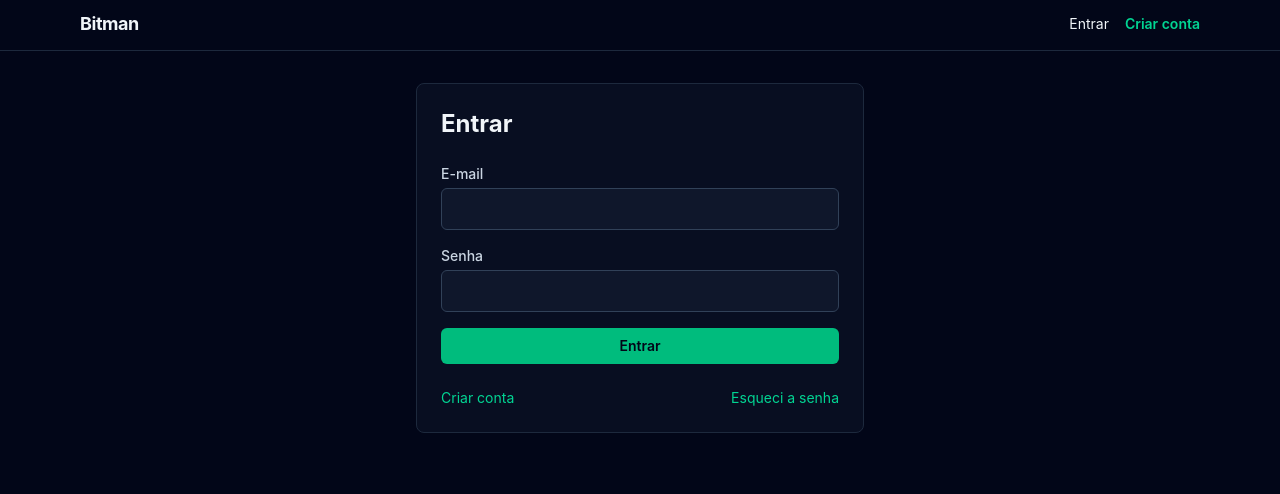
Test: LoginPage › ignora destino externo em ?next= (sem redirecionamento aberto)
The width and height of the screenshot is (1280, 494).
Type "ada@example.com" into the field labelled "E-mail" at (640, 209), box x1=441 y1=188 x2=839 y2=230
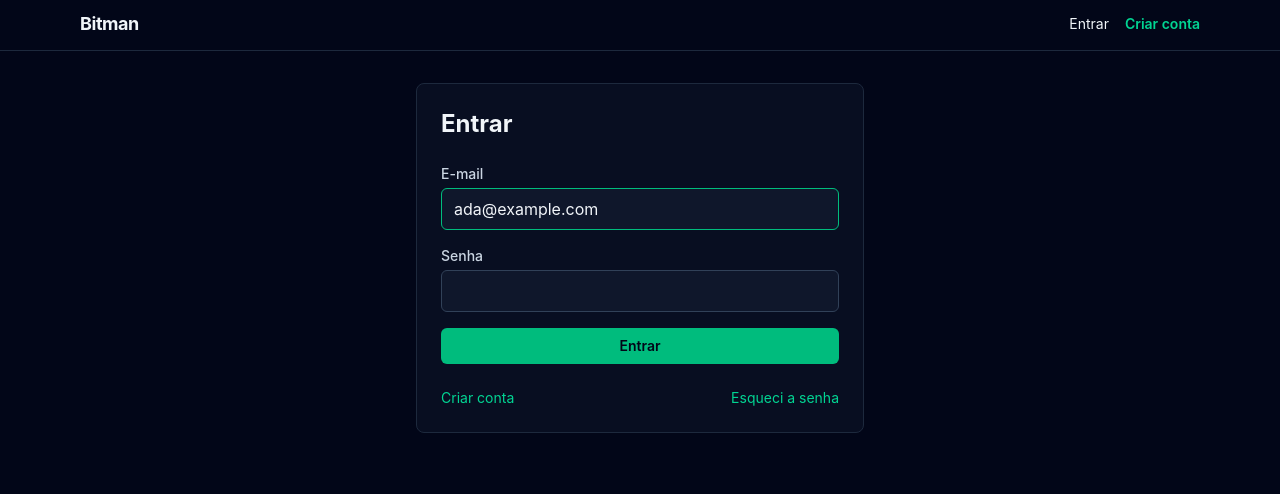
Type "senha-forte-1" into the password field labelled "Senha" at (640, 291), box x1=441 y1=270 x2=839 y2=312
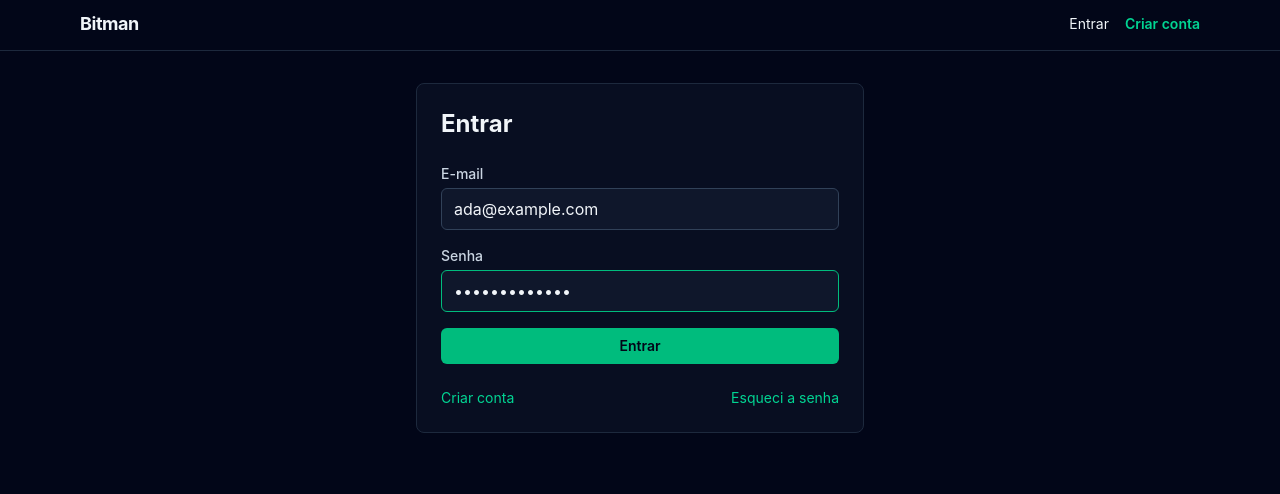
Click the button "Entrar" at (640, 346), box x1=441 y1=328 x2=839 y2=364
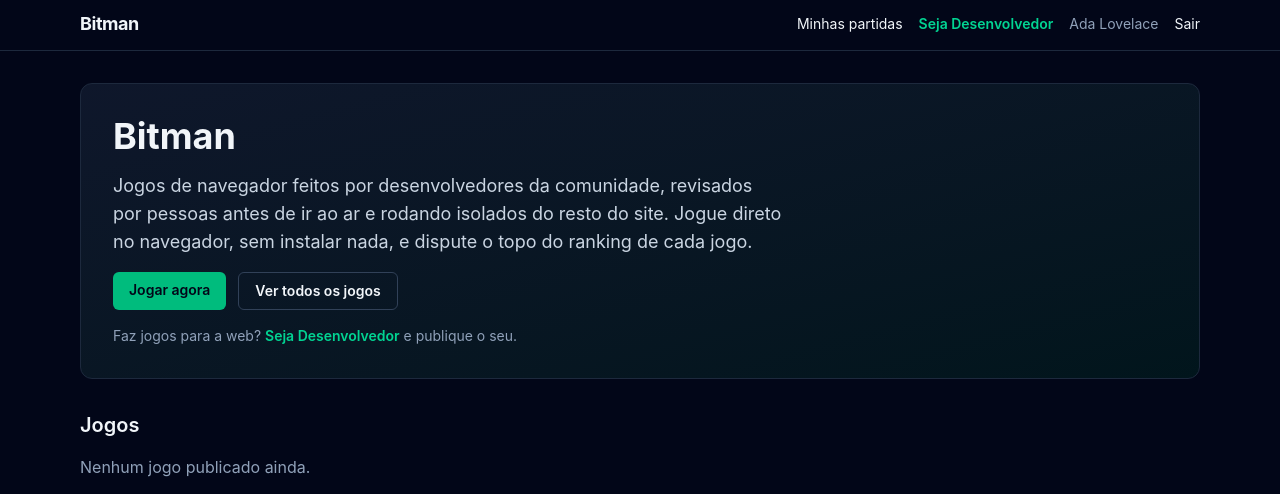
Expected: the heading "Bitman" is shown, x1=113 y1=114 x2=236 y2=158
